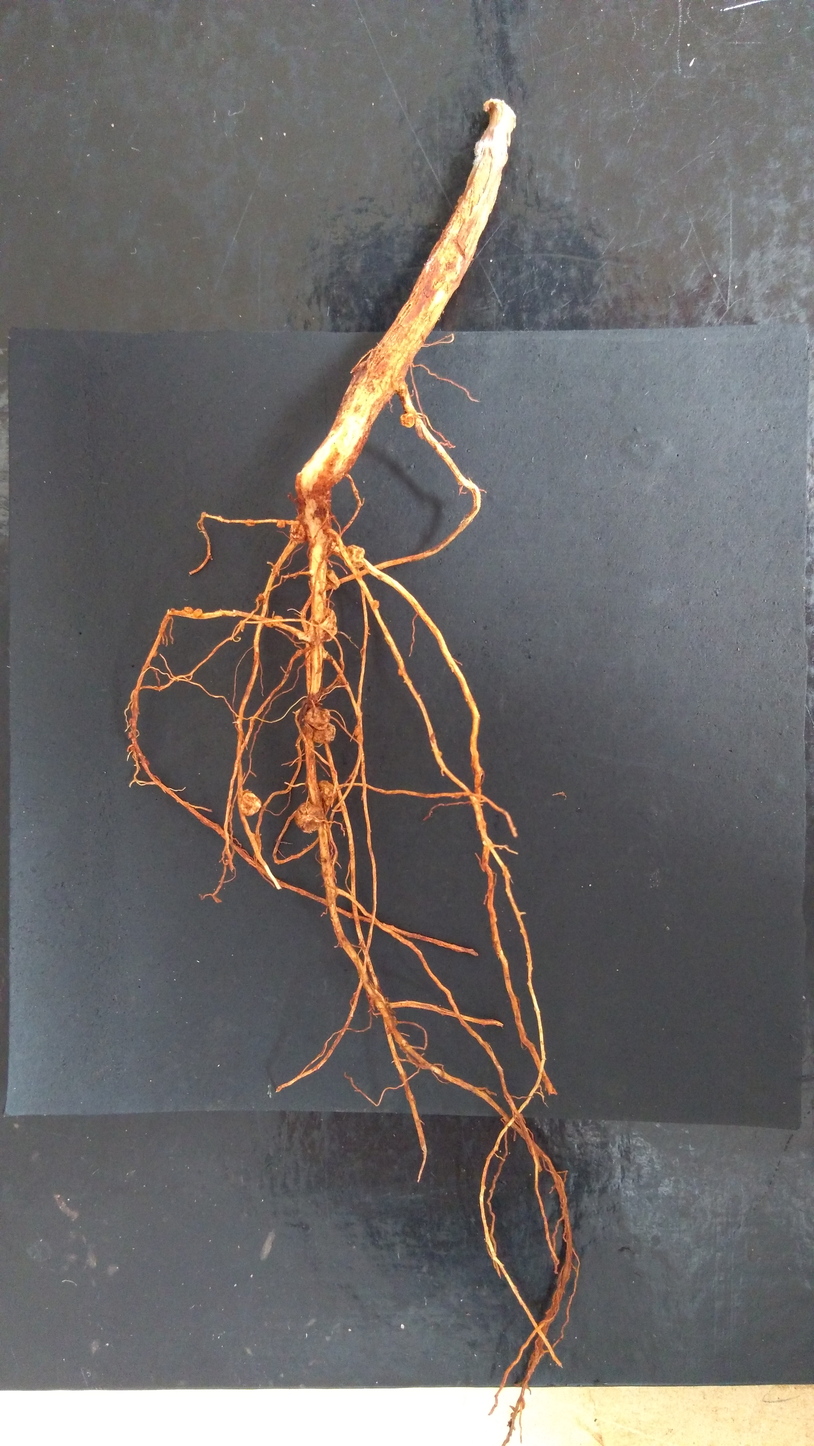nodule: (294, 801, 326, 833), (308, 780, 338, 808), (318, 606, 338, 642), (304, 706, 331, 731), (344, 544, 365, 569), (311, 723, 336, 744), (241, 791, 262, 816), (289, 520, 306, 543), (325, 569, 341, 590), (400, 413, 415, 428), (273, 615, 284, 626), (389, 1015, 398, 1027), (273, 564, 280, 578), (245, 518, 255, 527), (264, 619, 274, 628), (193, 608, 203, 617), (276, 519, 285, 528), (239, 620, 245, 632), (354, 725, 360, 736), (257, 592, 265, 600), (179, 609, 188, 616), (373, 599, 379, 609), (357, 733, 363, 743), (184, 607, 194, 613), (152, 650, 158, 658), (398, 668, 403, 677), (128, 731, 133, 740), (318, 588, 323, 595), (438, 750, 442, 757), (338, 669, 343, 674), (130, 746, 135, 751), (129, 718, 133, 723), (170, 608, 175, 612), (296, 516, 301, 520)
